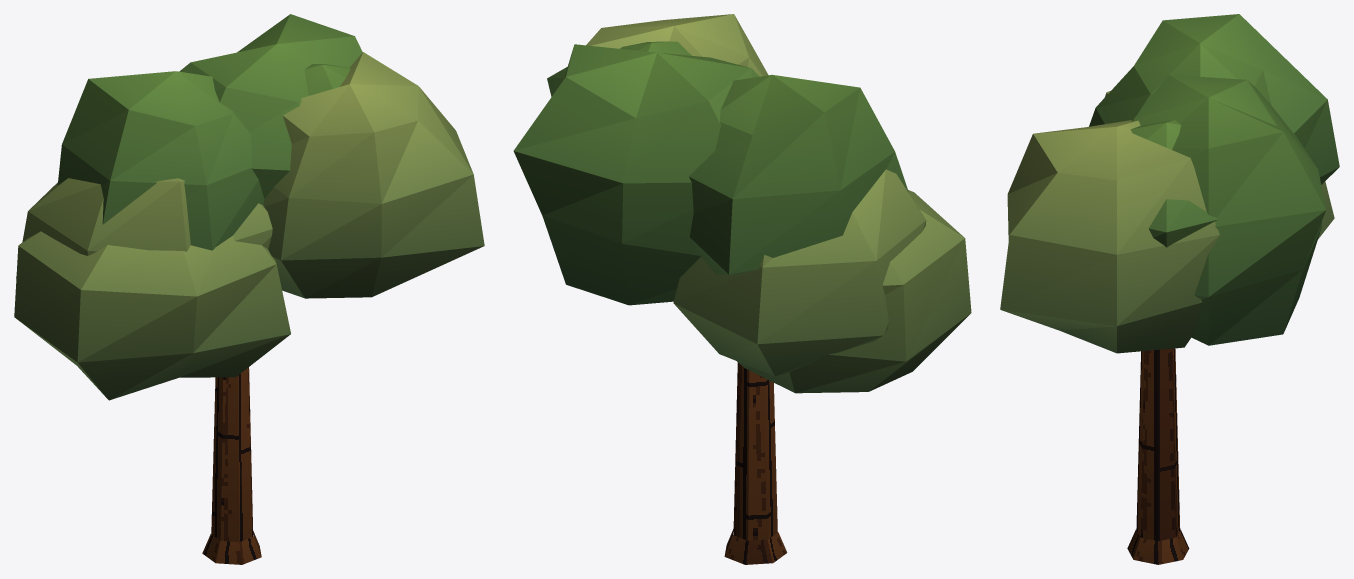
The model's file is oak_1_lowpoly.glb.
The picture shows the model from 3 angles, left to right: view 1: azimuth 30°, elevation 25°; view 2: azimuth 150°, elevation 25°; view 3: azimuth 270°, elevation 25°; orthographic projection. The views are drawn at different scales.
Parts seen in each view (by area): view 1: oak_1_lowpoly; view 2: oak_1_lowpoly; view 3: oak_1_lowpoly.
Part boxes in pixels (left/top/right/bottom): oak_1_lowpoly: left=14, top=14, right=484, bottom=564; oak_1_lowpoly: left=513, top=14, right=971, bottom=564; oak_1_lowpoly: left=1000, top=14, right=1339, bottom=564.
Bounding box in the file's own units: 5.31 × 6.12 × 3.85.
Materials: 2 (1 with a texture image).
